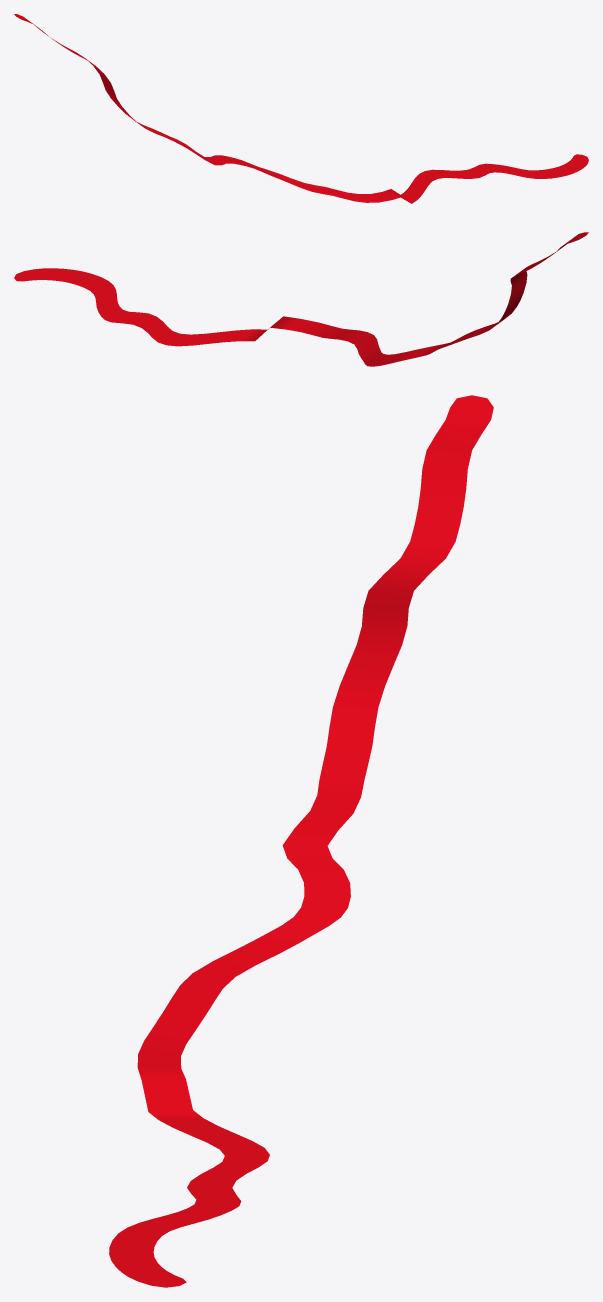
Rendered from hair8.fbx.
3 renders of one model, top to bottom at view 1: azimuth 30°, elevation 25°; view 2: azimuth 150°, elevation 25°; view 3: azimuth 270°, elevation 25°, orthographic. The views are drawn at different scales.
Visible parts, largest first — view 1: Plane.009; view 2: Plane.009; view 3: Plane.009.
Part boxes in pixels (x1,y1,x2,y2): Plane.009: (14, 14, 588, 203); Plane.009: (14, 232, 588, 366); Plane.009: (109, 395, 493, 1287).
Bounding box in the file's own units: 8770 × 3470 × 2954.
